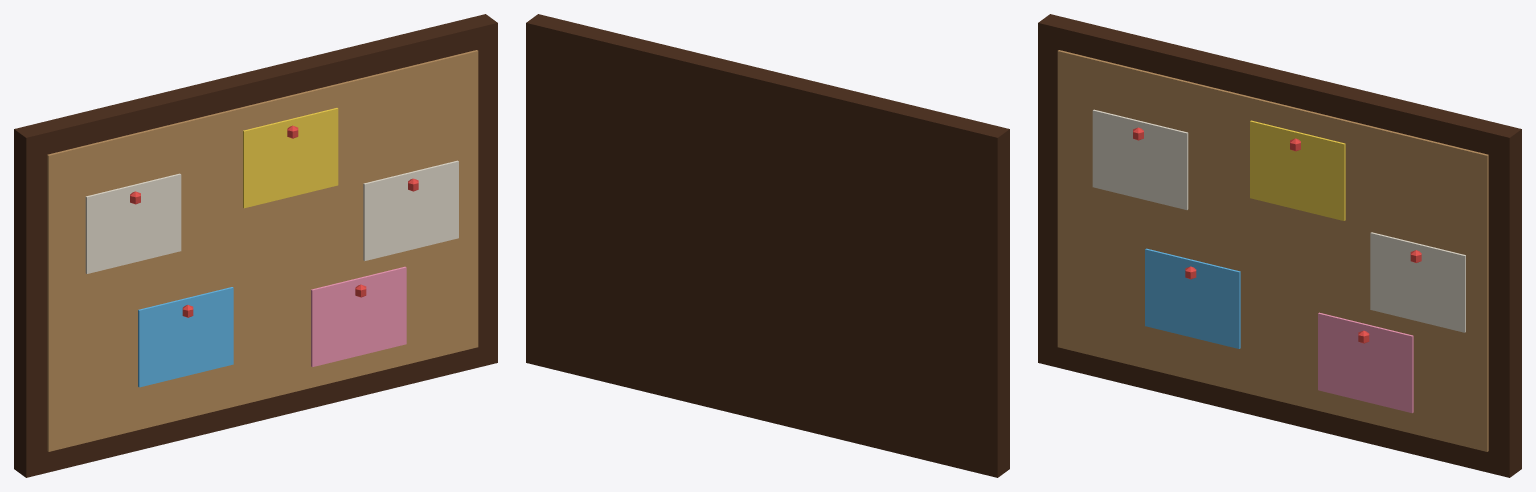
File: bulletin_board.obj
3 views of the same model, side by side, from view 1: azimuth 30°, elevation 25°; view 2: azimuth 150°, elevation 25°; view 3: azimuth 330°, elevation 25° (orthographic).
Parts seen in each view (by area): view 1: bulletin_board; view 2: bulletin_board; view 3: bulletin_board.
Boxes of the visible parts, left/top/right/bottom form: bulletin_board: left=14, top=14, right=497, bottom=477; bulletin_board: left=526, top=14, right=1009, bottom=477; bulletin_board: left=1038, top=14, right=1521, bottom=477.
Size of the model in its own units: 0.9 by 0.62 by 0.064.
